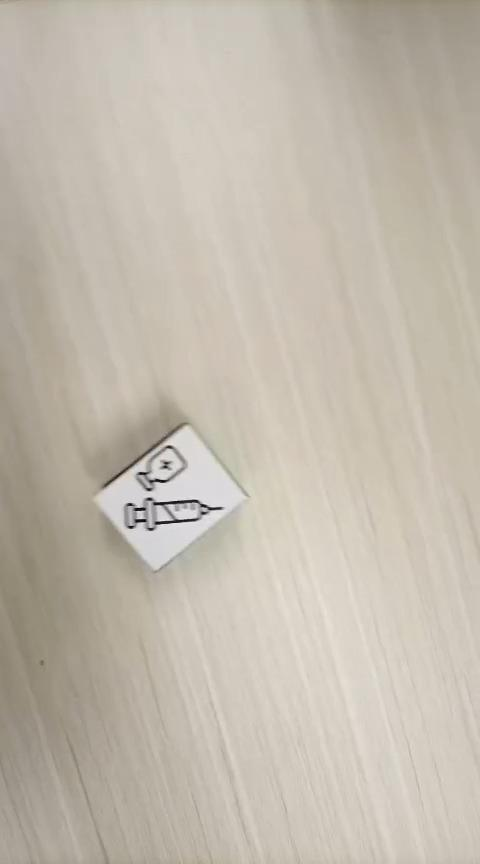antiseptic cream: (91, 421, 251, 573)
